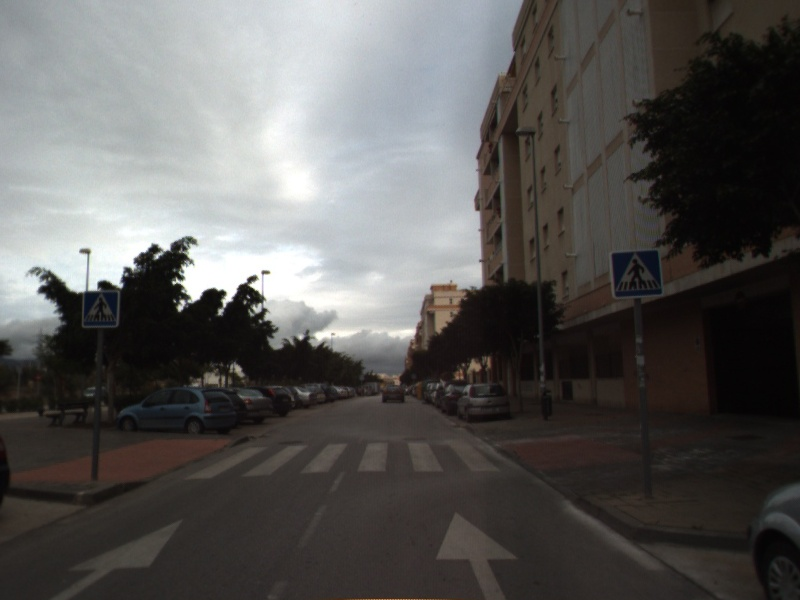STRAIGHT: (44, 517, 185, 600), (434, 509, 521, 600)
